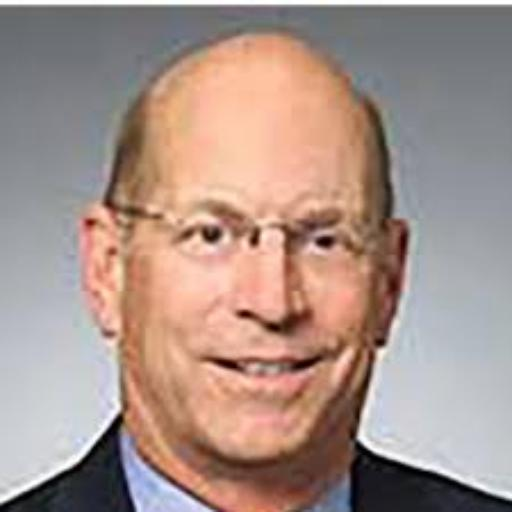left_eye: (305, 233, 356, 257)
left_lip_corner: (308, 349, 337, 374)
right_eye: (175, 224, 240, 255)
right_lip_corner: (196, 351, 237, 379)
